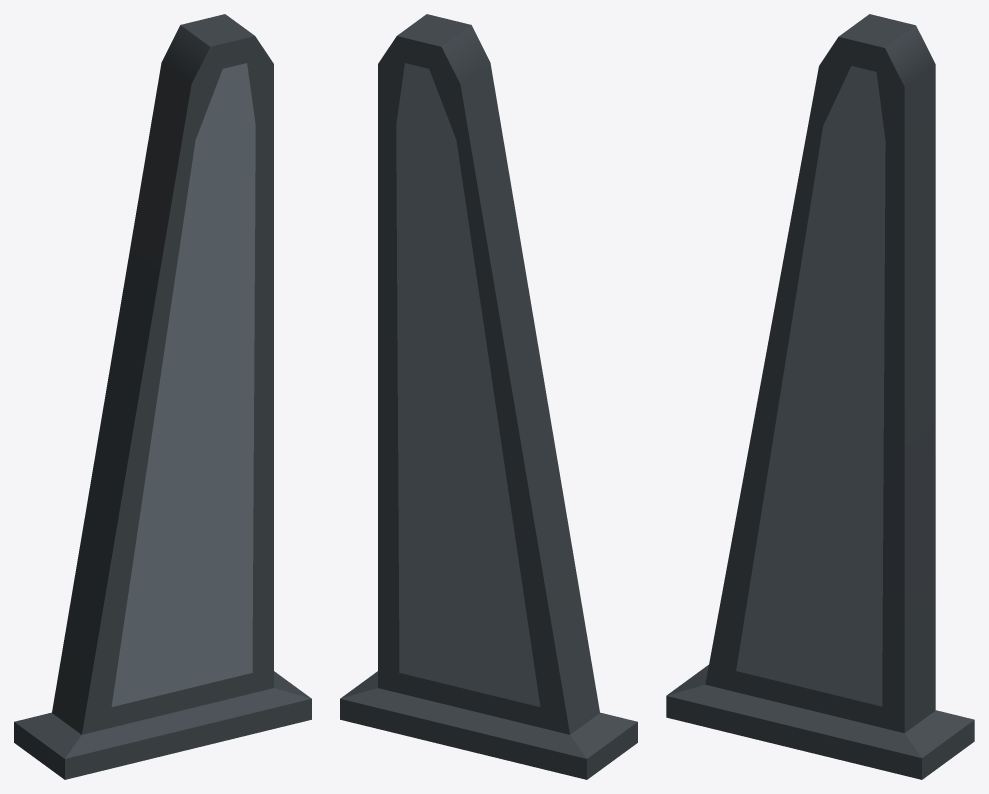
The model's file is SM_Bld_Floor_Small_Hand_Rail_End_01.fbx.
The picture shows the model from 3 angles, left to right: view 1: azimuth 30°, elevation 25°; view 2: azimuth 150°, elevation 25°; view 3: azimuth 330°, elevation 25°; orthographic projection. The views are drawn at different scales.
Parts seen in each view (by area): view 1: SM_Bld_Floor_Small_Hand_Rail_End_01; view 2: SM_Bld_Floor_Small_Hand_Rail_End_01; view 3: SM_Bld_Floor_Small_Hand_Rail_End_01.
Part boxes in pixels (<box>): SM_Bld_Floor_Small_Hand_Rail_End_01: <box>14,14,311,779</box>; SM_Bld_Floor_Small_Hand_Rail_End_01: <box>340,14,637,779</box>; SM_Bld_Floor_Small_Hand_Rail_End_01: <box>666,14,974,779</box>.
Size of the model in its own units: 47.55 by 126 by 16.95.
Materials: 1 (1 with a texture image).
